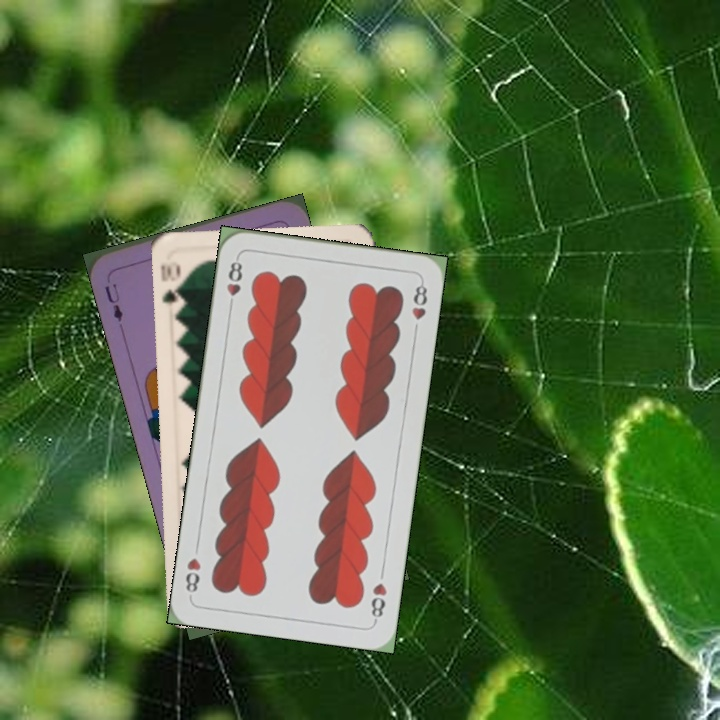EU: (101, 279, 126, 324)
G10: (157, 258, 186, 314)
H8: (223, 253, 245, 312), (367, 578, 390, 625)
